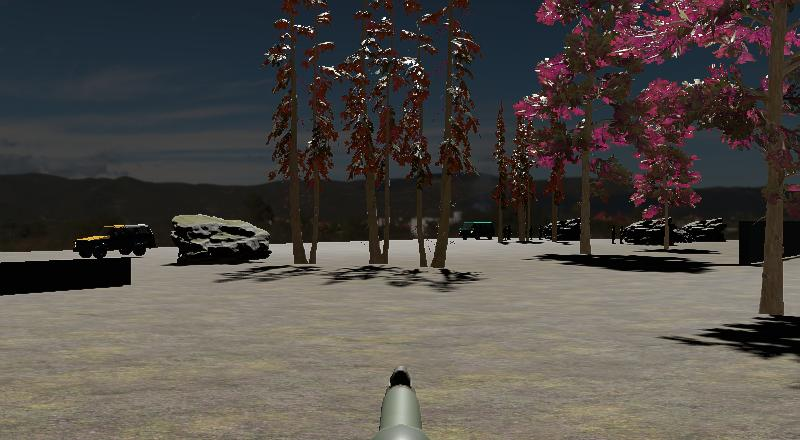car: (71, 220, 157, 259), (457, 219, 498, 240)
